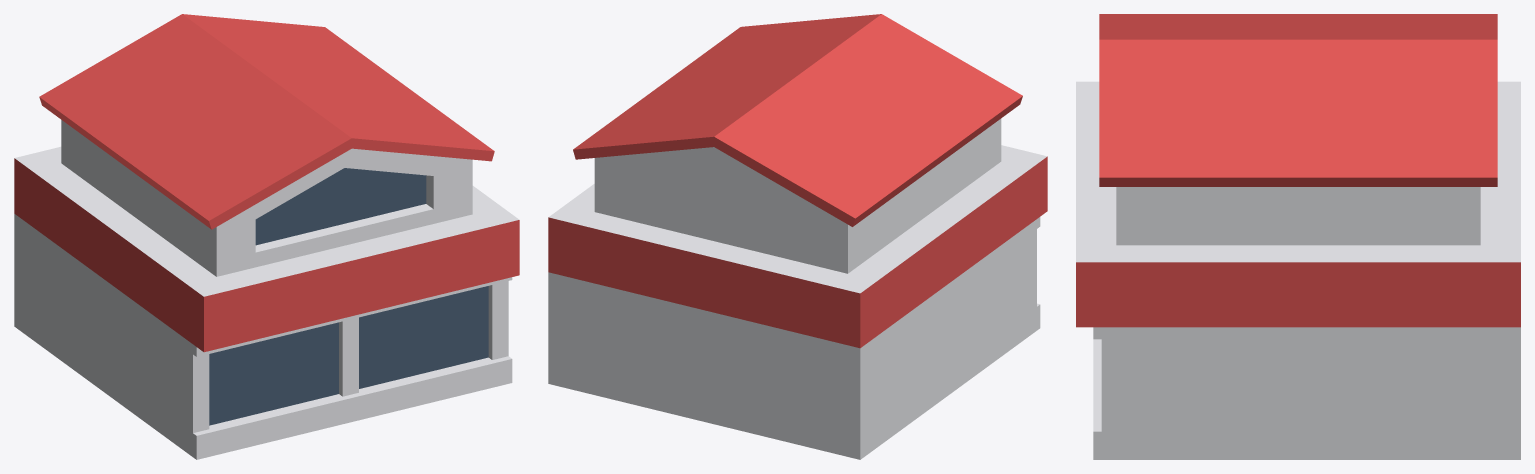
Rendered from pitsOfficeRoof.glb.
The picture shows the model from 3 angles, left to right: view 1: azimuth 30°, elevation 25°; view 2: azimuth 150°, elevation 25°; view 3: azimuth 270°, elevation 25°; orthographic projection. The views are drawn at different scales.
Visible parts, largest first — view 1: pitsOfficeRoof(Clone); view 2: pitsOfficeRoof(Clone); view 3: pitsOfficeRoof(Clone).
Part boxes in pixels (x1,y1,x2,y2): pitsOfficeRoof(Clone): (14, 14, 519, 459); pitsOfficeRoof(Clone): (548, 14, 1047, 459); pitsOfficeRoof(Clone): (1076, 14, 1520, 459).
Size of the model in its own units: 1 by 0.8515 by 1.04.
